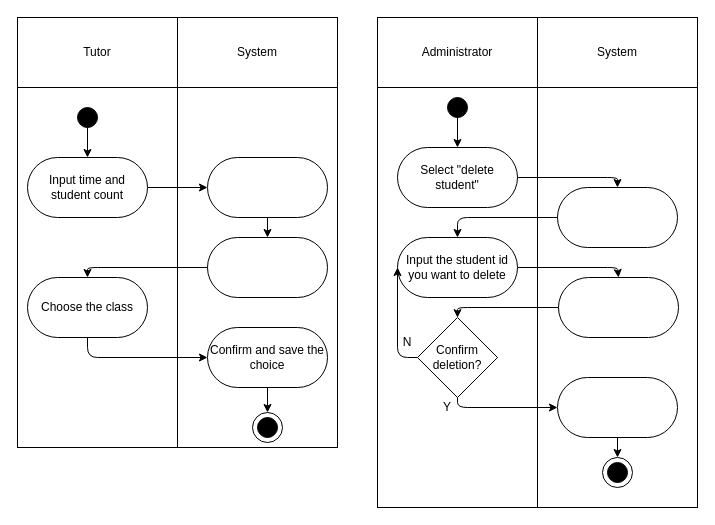
This 715x525 diagram has some shape labels left out. The shapes that lost their labels are listed below. From the top down, each one's centre as x and y in pixels, then its label:
point (267, 187): Search available classes
point (617, 217): List all student
point (267, 267): Show the available class
point (618, 307): Show confirmation dialog
point (617, 407): Delete successfully.
